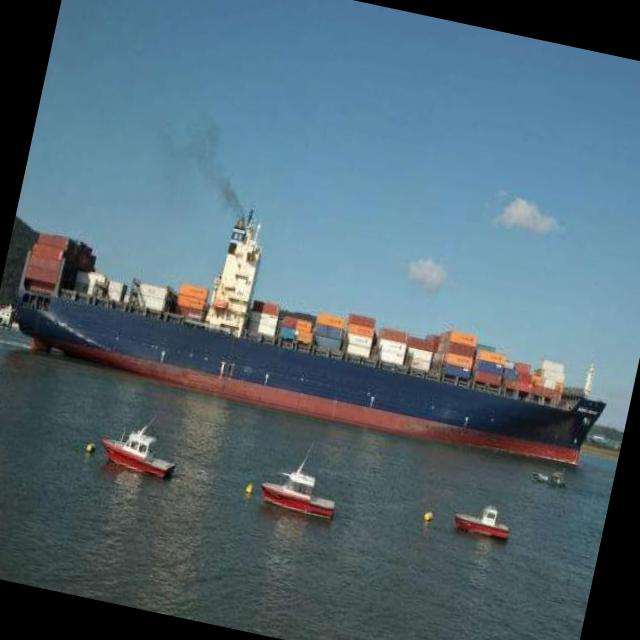Cargo: (15, 214, 605, 464)
